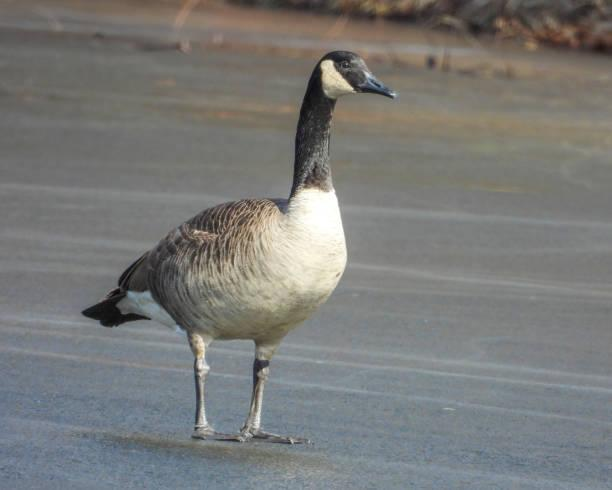Canadian-Goose: (77, 50, 400, 443)
